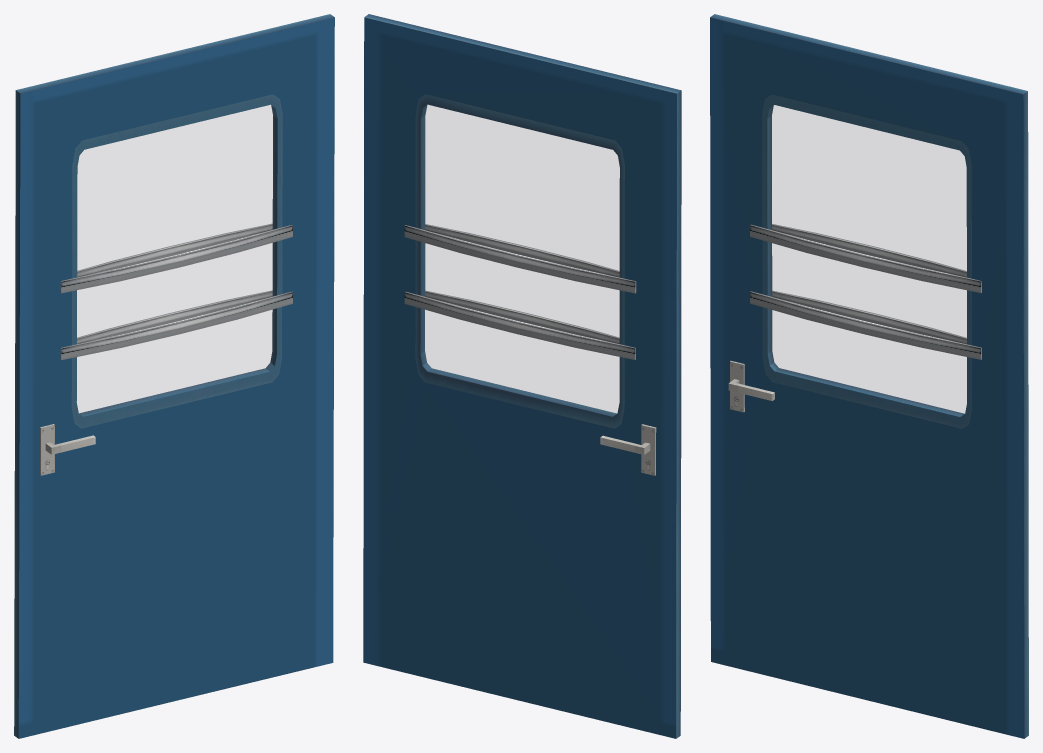
File: Train03Intervip_1Door_b.FBX
The picture shows the model from 3 angles, left to right: view 1: azimuth 30°, elevation 25°; view 2: azimuth 150°, elevation 25°; view 3: azimuth 330°, elevation 25°; orthographic projection.
Visible parts, largest first — view 1: Train03Intervip_Door1; view 2: Train03Intervip_Door1; view 3: Train03Intervip_Door1.
Boxes of the visible parts, x1,y1,x2,y2 form: Train03Intervip_Door1: (14, 14, 334, 738); Train03Intervip_Door1: (363, 14, 681, 738); Train03Intervip_Door1: (710, 14, 1028, 738).
Size of the model in its own units: 74.13 by 146 by 7.74.
